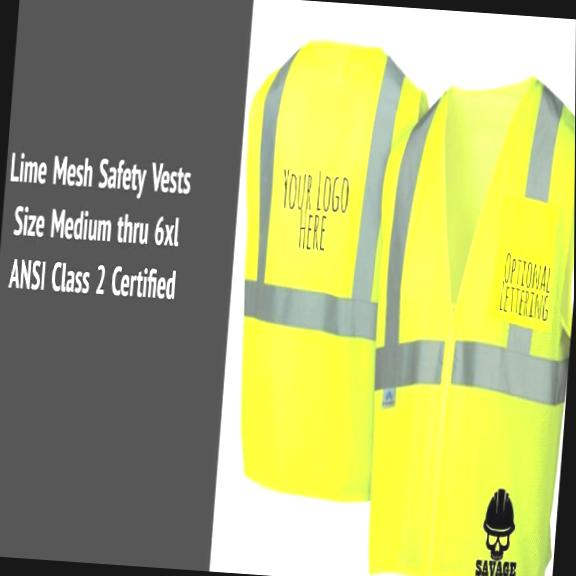safety_vest: (350, 68, 575, 576), (219, 37, 437, 510)
